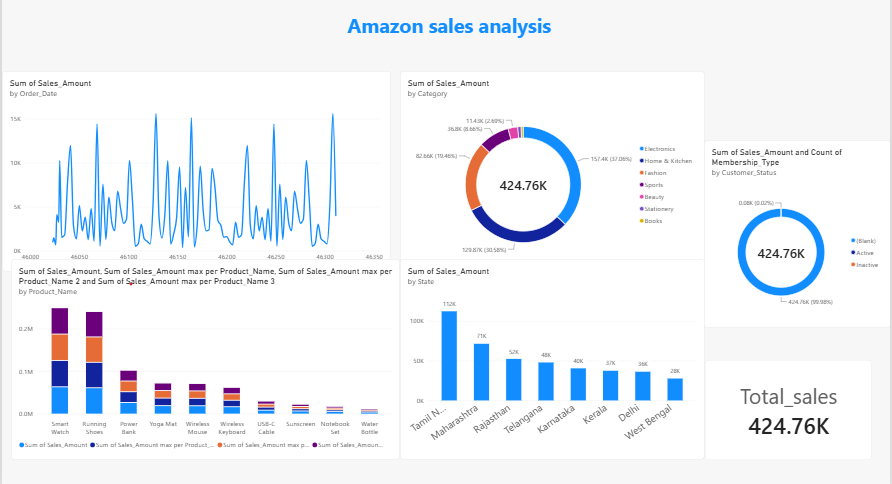

The dashboard page shown, as its layout file describes it:
{"tool":"powerbi","page":{"name":"Page 1","canvas":[1920,1080],"ordinal":0},"visuals":[{"type":"lineChart","fields":{"Category":["Amazon_Sales.Order_Date"],"Y":["Sum(Amazon_Sales.Sales_Amount)"]},"box":[0,186.7,839.8,433.1],"z":0},{"type":"donutChart","fields":{"Category":["Amazon_Sales.Category"],"Y":["Sum(Amazon_Sales.Sales_Amount)"]},"box":[860,186.7,657.5,432.5],"z":1000},{"type":"columnChart","fields":{"Category":["Amazon_Sales.Product_Name"],"Y":["Sum(Amazon_Sales.Sales_Amount)","Amazon_Sales.Sum of Sales_Amount max per Product_Name","Amazon_Sales.Sum of Sales_Amount max per Product_Name 2","Amazon_Sales.Sum of Sales_Amount max per Product_Name 3"]},"box":[20,592.5,840,433],"z":2000},{"type":"lineClusteredColumnComboChart","fields":{"Category":["Amazon_Sales.State"],"Y":["Sum(Amazon_Sales.Sales_Amount)"]},"box":[860,592.5,657.5,432.5],"z":3000},{"type":"textbox","box":[20,0,1900,100],"z":4000},{"type":"cardVisual","fields":{"Data":["Amazon_Sales.Total_sales"]},"box":[1518,810,360,216],"z":5000},{"type":"donutChart","fields":{"Category":["Customer_Details.Customer_Status"],"Y":["Sum(Amazon_Sales.Sales_Amount)","CountNonNull(Customer_Details.Membership_Type)"]},"box":[1516.9,619.8,403.1,405.7],"z":6001},{"type":"lineClusteredColumnComboChart","fields":{"Category":["Customer_Details.Customer_Status"],"Y":["Sum(Amazon_Sales.Sales_Amount)"]},"box":[1518,187,402,433],"z":6002}]}

Visuals, with their boxes on the page's 1920x1080 design canvas (x1, y1, x2, y2). These are canvas units, not pixel positions in the 892x484 screenshot, which may show the page scaled, cropped or inside an application window:
lineChart - Amazon_Sales.Order_Date x Sum(Amazon_Sales.Sales_Amount): bbox(0, 187, 840, 620)
donutChart - Amazon_Sales.Category x Sum(Amazon_Sales.Sales_Amount): bbox(860, 187, 1518, 619)
columnChart - Amazon_Sales.Product_Name x Sum(Amazon_Sales.Sales_Amount): bbox(20, 592, 860, 1026)
lineClusteredColumnComboChart - Amazon_Sales.State x Sum(Amazon_Sales.Sales_Amount): bbox(860, 592, 1518, 1025)
textbox: bbox(20, 0, 1920, 100)
cardVisual - Amazon_Sales.Total_sales: bbox(1518, 810, 1878, 1026)
donutChart - Customer_Details.Customer_Status x Sum(Amazon_Sales.Sales_Amount): bbox(1517, 620, 1920, 1026)
lineClusteredColumnComboChart - Customer_Details.Customer_Status x Sum(Amazon_Sales.Sales_Amount): bbox(1518, 187, 1920, 620)
